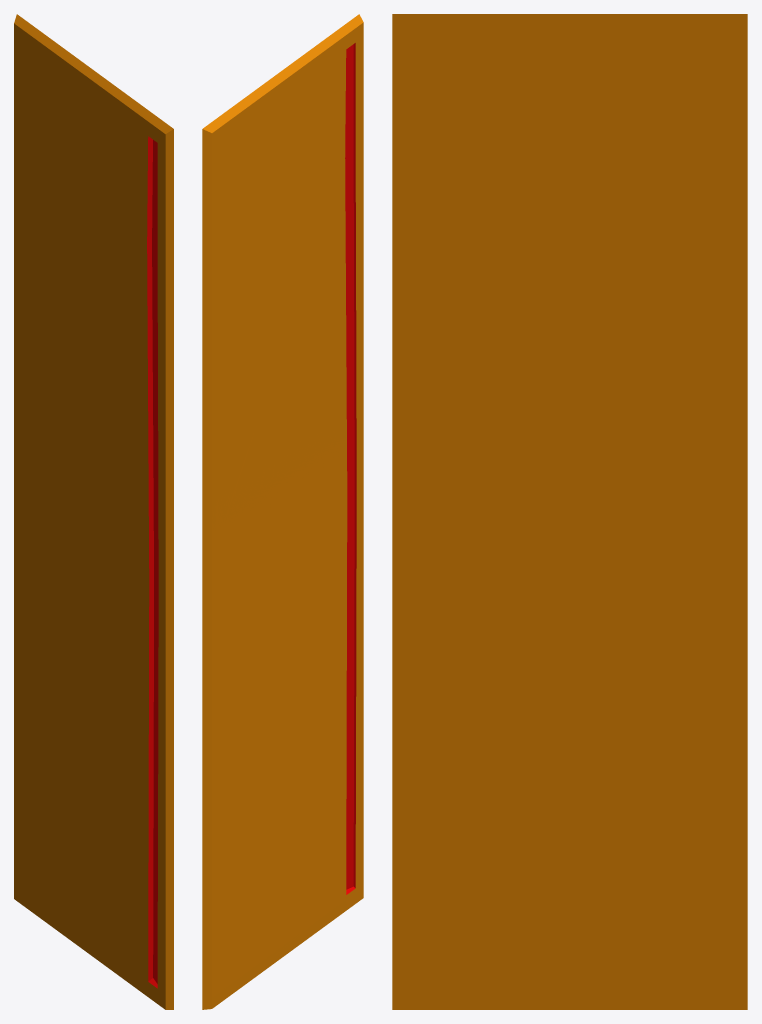
File: Hallway_Door_3.fbx
3 renders of one model, left to right at view 1: azimuth 30°, elevation 25°; view 2: azimuth 150°, elevation 25°; view 3: azimuth 270°, elevation 25°, orthographic. The views are drawn at different scales.
Parts seen in each view (by area): view 1: Hallway_Door_3; view 2: Hallway_Door_3; view 3: Hallway_Door_3.
Boxes of the visible parts, bbox=[...] form: Hallway_Door_3: bbox=[14, 14, 173, 1009]; Hallway_Door_3: bbox=[202, 14, 363, 1009]; Hallway_Door_3: bbox=[392, 14, 747, 1009].
Bounding box in the file's own units: 2.69 × 359 × 116.
